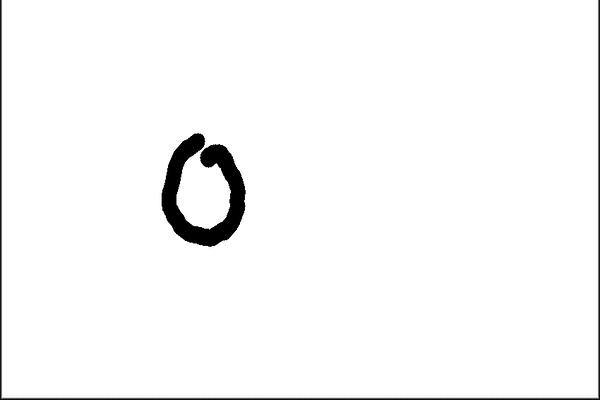O: (144, 121, 260, 258)
